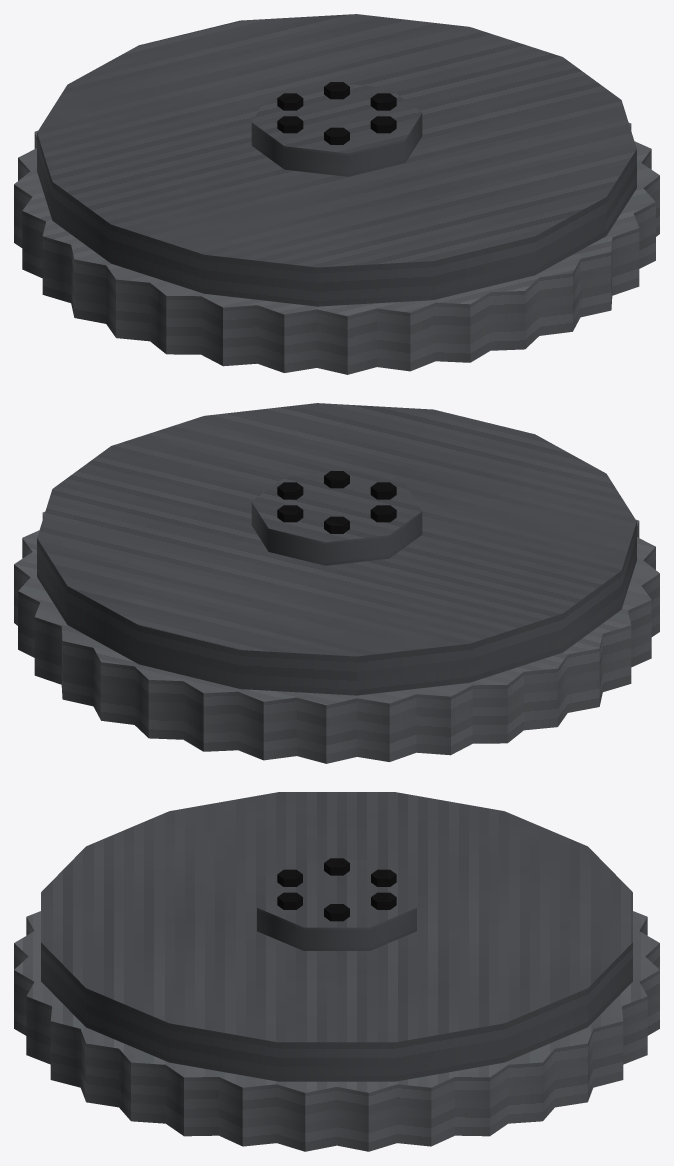
The model's file is volante_motor_fabrica.glb.
3 renders of one model, top to bottom at view 1: azimuth 30°, elevation 25°; view 2: azimuth 150°, elevation 25°; view 3: azimuth 270°, elevation 25°, orthographic.
Visible parts, largest first — view 1: volante_motor_fabrica; view 2: volante_motor_fabrica; view 3: volante_motor_fabrica.
Boxes of the visible parts, x1,y1,x2,y2 form: volante_motor_fabrica: [14, 14, 659, 374]; volante_motor_fabrica: [14, 403, 659, 763]; volante_motor_fabrica: [14, 792, 659, 1151].
Size of the model in its own units: 0.2986 by 0.066 by 0.2986.
1 material, 1 textured.
